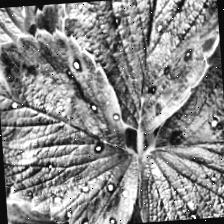Leaf Spot: (0, 21, 143, 224), (58, 0, 224, 137), (126, 40, 224, 222), (112, 190, 150, 224)
